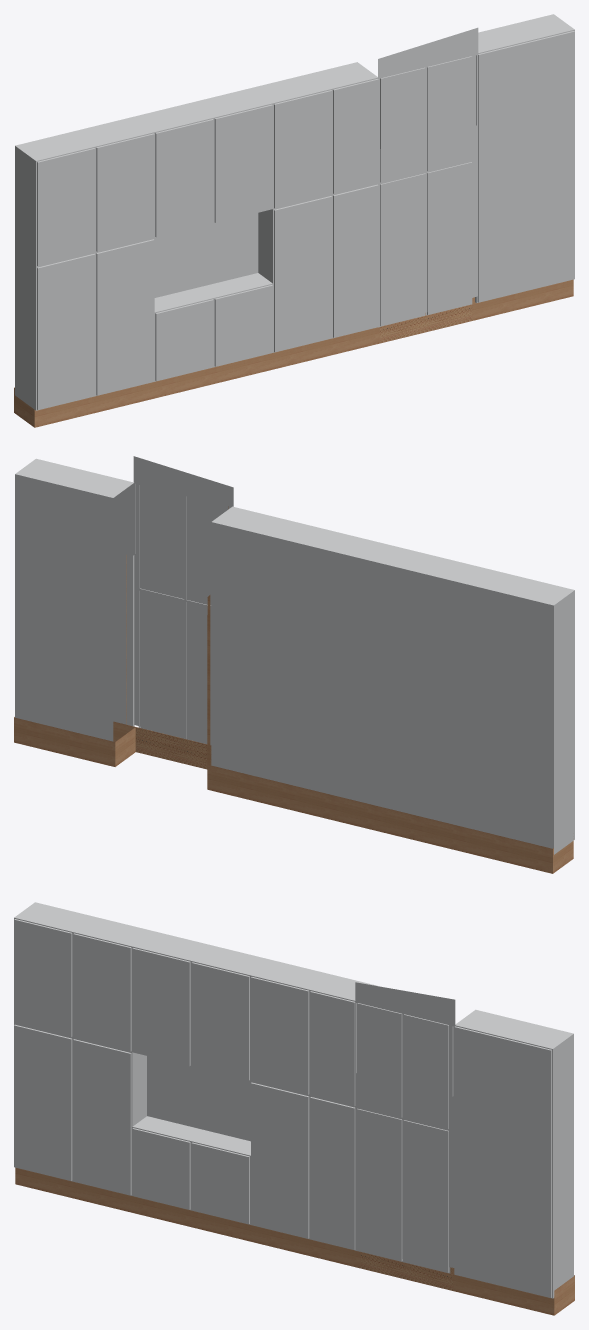
The model's file is fakeWall.fbx.
3 renders of one model, top to bottom at view 1: azimuth 30°, elevation 25°; view 2: azimuth 150°, elevation 25°; view 3: azimuth 330°, elevation 25°, orthographic.
Parts seen in each view (by area): view 1: FakeWall; view 2: FakeWall; view 3: FakeWall.
Boxes of the visible parts, x1,y1,x2,y2 form: FakeWall: (14,14,574,427); FakeWall: (14,456,574,873); FakeWall: (14,902,574,1315).
Bounding box in the file's own units: 632 × 329 × 47.06.
